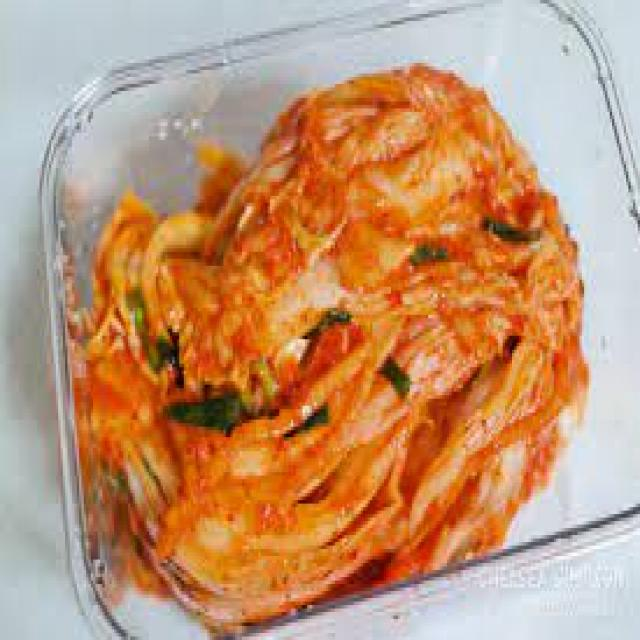kimchi: (130, 98, 533, 605)
